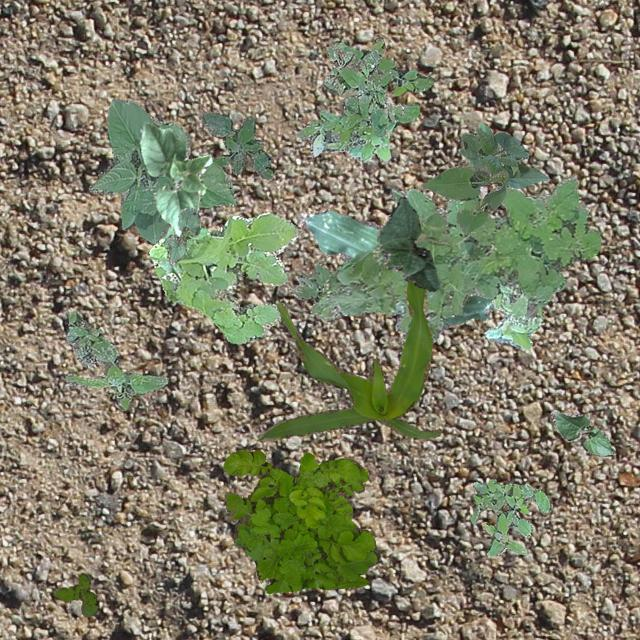crop: (298, 122, 492, 344), (256, 280, 439, 440), (87, 98, 235, 242), (384, 214, 538, 318), (420, 126, 548, 234), (138, 120, 210, 236), (376, 197, 438, 290), (550, 408, 612, 454), (166, 206, 198, 264)
weed: (316, 174, 600, 340), (222, 447, 378, 592), (147, 212, 300, 342), (298, 34, 432, 160), (64, 310, 166, 410), (326, 44, 404, 138), (470, 478, 550, 556), (200, 112, 274, 178), (288, 256, 348, 321), (484, 282, 542, 348), (51, 572, 96, 616)
